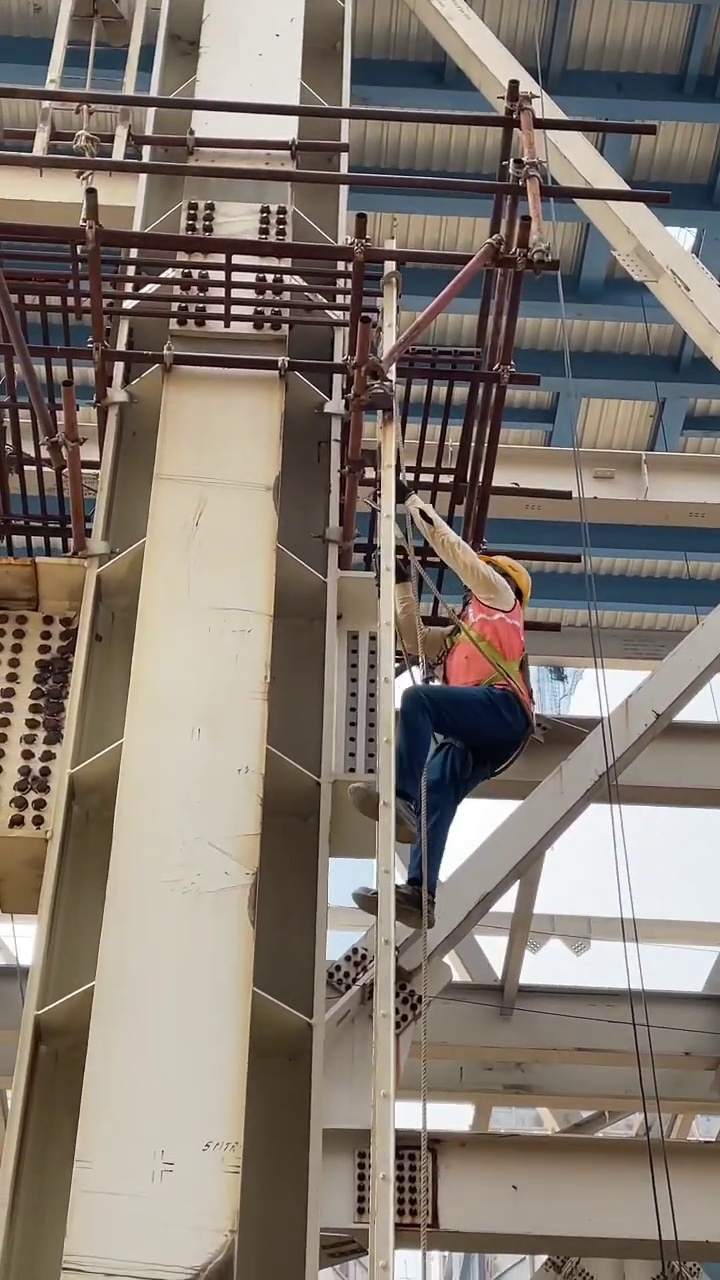Helmet: (479, 553, 531, 601)
Person: (346, 547, 538, 922)
Safety_Harness: (418, 601, 536, 733)
Safety_shoes: (347, 781, 420, 844), (350, 879, 436, 929)
